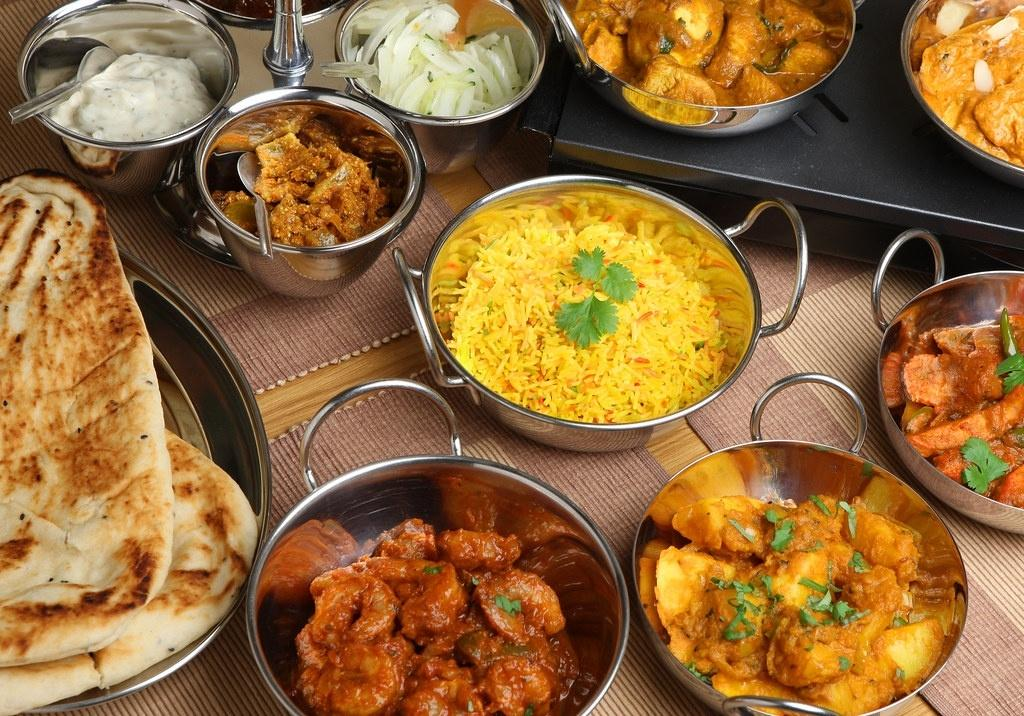rice: (457, 196, 731, 402)
